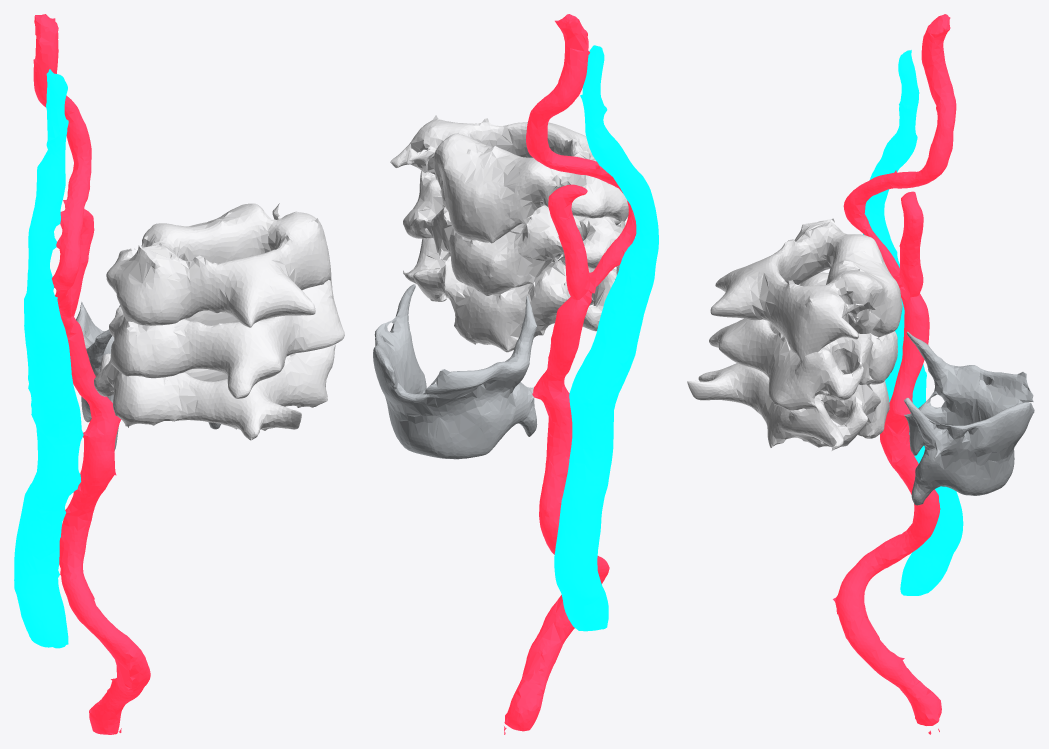
The model's file is carotis-left.glb.
3 views of the same model, side by side, from view 1: azimuth 30°, elevation 25°; view 2: azimuth 150°, elevation 25°; view 3: azimuth 270°, elevation 25° (orthographic). The views are drawn at different scales.
Visible parts, largest first — view 1: 0:3:V_jugularis_interna_sinistra, 0:5:Vertebra_C3, 0:6:Vertebra_C4, 0:7:Vertebra_C5, 0:0:A_carotis_communis_sinistra, 0:1:A_carotis_interna_sinistra, 0:4:Cartilago_thyroidea, 0:2:A_carotis_externa_sinistra; view 2: 0:3:V_jugularis_interna_sinistra, 0:5:Vertebra_C3, 0:4:Cartilago_thyroidea, 0:0:A_carotis_communis_sinistra, 0:6:Vertebra_C4, 0:7:Vertebra_C5, 0:1:A_carotis_interna_sinistra, 0:2:A_carotis_externa_sinistra; view 3: 0:5:Vertebra_C3, 0:4:Cartilago_thyroidea, 0:0:A_carotis_communis_sinistra, 0:6:Vertebra_C4, 0:3:V_jugularis_interna_sinistra, 0:7:Vertebra_C5, 0:1:A_carotis_interna_sinistra, 0:2:A_carotis_externa_sinistra.
Part boxes in pixels (x1,y1,x2,y2): 0:3:V_jugularis_interna_sinistra: (14, 69, 83, 648); 0:5:Vertebra_C3: (106, 203, 331, 327); 0:6:Vertebra_C4: (109, 279, 344, 398); 0:7:Vertebra_C5: (94, 344, 335, 440); 0:0:A_carotis_communis_sinistra: (59, 316, 150, 734); 0:1:A_carotis_interna_sinistra: (33, 14, 91, 318); 0:4:Cartilago_thyroidea: (76, 302, 220, 450); 0:2:A_carotis_externa_sinistra: (60, 209, 94, 316); 0:3:V_jugularis_interna_sinistra: (554, 45, 658, 631); 0:5:Vertebra_C3: (390, 115, 628, 243); 0:4:Cartilago_thyroidea: (373, 284, 537, 459); 0:0:A_carotis_communis_sinistra: (504, 290, 609, 734); 0:6:Vertebra_C4: (403, 171, 625, 295); 0:7:Vertebra_C5: (403, 238, 616, 352); 0:1:A_carotis_interna_sinistra: (526, 14, 636, 293); 0:2:A_carotis_externa_sinistra: (548, 184, 590, 299); 0:5:Vertebra_C3: (710, 218, 902, 362); 0:4:Cartilago_thyroidea: (904, 331, 1034, 505); 0:0:A_carotis_communis_sinistra: (833, 286, 941, 734); 0:6:Vertebra_C4: (709, 271, 897, 410); 0:3:V_jugularis_interna_sinistra: (863, 50, 963, 595); 0:7:Vertebra_C5: (687, 363, 889, 450); 0:1:A_carotis_interna_sinistra: (843, 14, 956, 287); 0:2:A_carotis_externa_sinistra: (899, 191, 923, 297).
Bounding box in the file's own units: 0.07 × 0.1784 × 0.0818.
